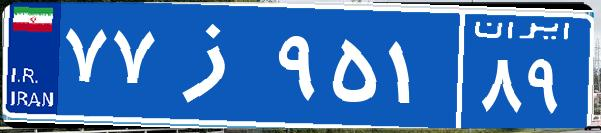1: (385, 28, 445, 110)
5: (330, 28, 385, 110)
7: (57, 26, 110, 107), (110, 28, 158, 105)
8: (475, 38, 525, 113)
9: (273, 28, 330, 110), (525, 38, 570, 115)
ز: (158, 15, 273, 115)
